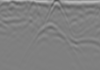hyperbola: (25, 21, 73, 54), (46, 1, 69, 20), (75, 37, 100, 50)
